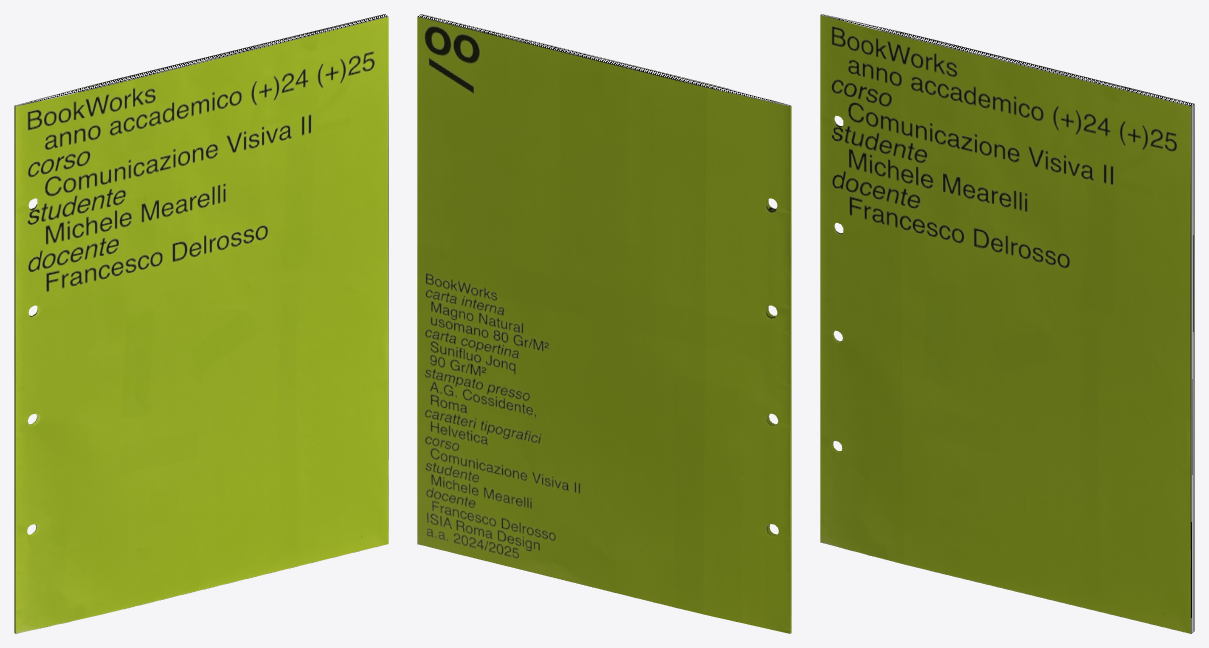
The model's file is bookletmagazine.glb.
3 renders of one model, left to right at view 1: azimuth 30°, elevation 25°; view 2: azimuth 150°, elevation 25°; view 3: azimuth 330°, elevation 25°, orthographic.
Parts seen in each view (by area): view 1: Piano.001, Piano, Piano.002; view 2: Piano.003, Piano, Piano.002, Piano.001; view 3: Piano.001, Piano.
Part boxes in pixels (x1,y1,x2,y2): Piano.001: (15, 17, 388, 633); Piano: (15, 14, 388, 627); Piano.002: (14, 106, 15, 633); Piano.003: (417, 17, 790, 633); Piano: (417, 14, 791, 633); Piano.002: (790, 106, 791, 633); Piano.001: (706, 83, 790, 632); Piano.001: (820, 15, 1190, 633); Piano: (820, 14, 1194, 633).
Bounding box in the file's own units: 1.85 × 2.51 × 0.0417.
Materials: 4 (4 with a texture image).
